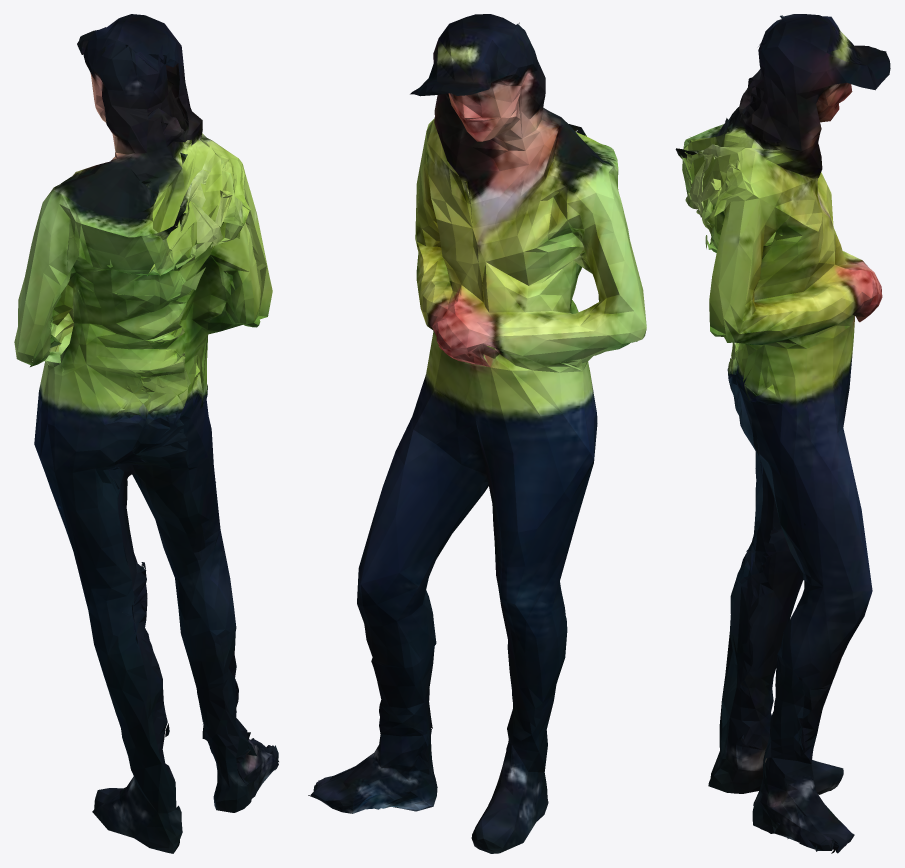
3 renders of one model, left to right at view 1: azimuth 30°, elevation 25°; view 2: azimuth 150°, elevation 25°; view 3: azimuth 270°, elevation 25°, orthographic. The views are drawn at different scales.
Visible parts, largest first — view 1: dec_0011; view 2: dec_0011; view 3: dec_0011.
Boxes of the visible parts, x1,y1,x2,y2 form: dec_0011: (14,14,278,853); dec_0011: (308,14,646,853); dec_0011: (675,14,890,853).
Size of the model in its own units: 0.6793 by 1.76 by 0.4425.
Materials: 1 (1 with a texture image).
